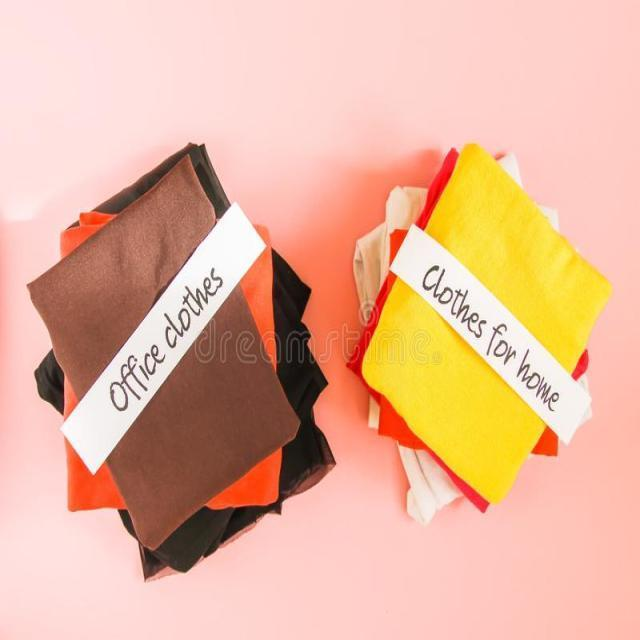clothes: (360, 178, 590, 526)
